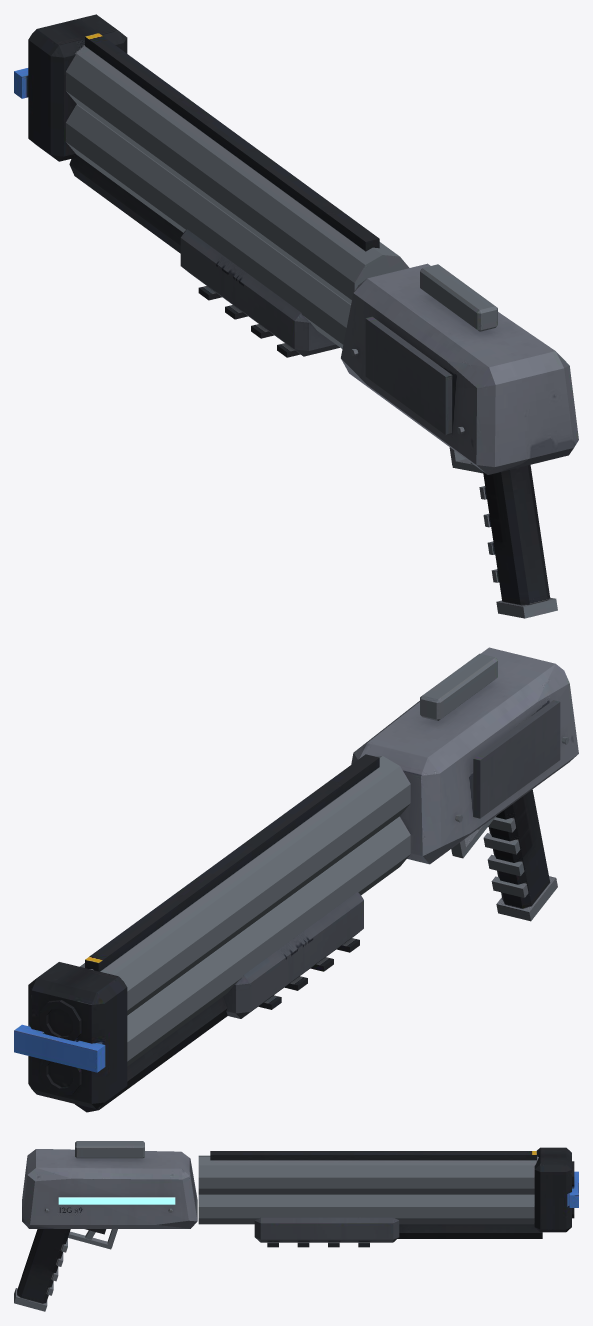
File: flail.glb
3 renders of one model, top to bottom at view 1: azimuth 30°, elevation 25°; view 2: azimuth 150°, elevation 25°; view 3: azimuth 270°, elevation 25°, orthographic. The views are drawn at different scales.
Parts seen in each view (by area): view 1: gun|base|, pump|base|; view 2: gun|base|, pump|base|; view 3: gun|base|, pump|base|, gun|base|hmd.
Part boxes in pixels (box(x1,y1,x2,y2)): gun|base|: box(14, 14, 578, 618); pump|base|: box(180, 229, 339, 357); gun|base|: box(14, 647, 578, 1112); pump|base|: box(223, 891, 363, 1018); gun|base|: box(14, 1141, 578, 1311); pump|base|: box(254, 1217, 399, 1247); gun|base|hmd: box(58, 1197, 175, 1204).
Bounding box in the file's own units: 0.326 × 0.7745 × 2.42.
Materials: 2 (1 with a texture image).
